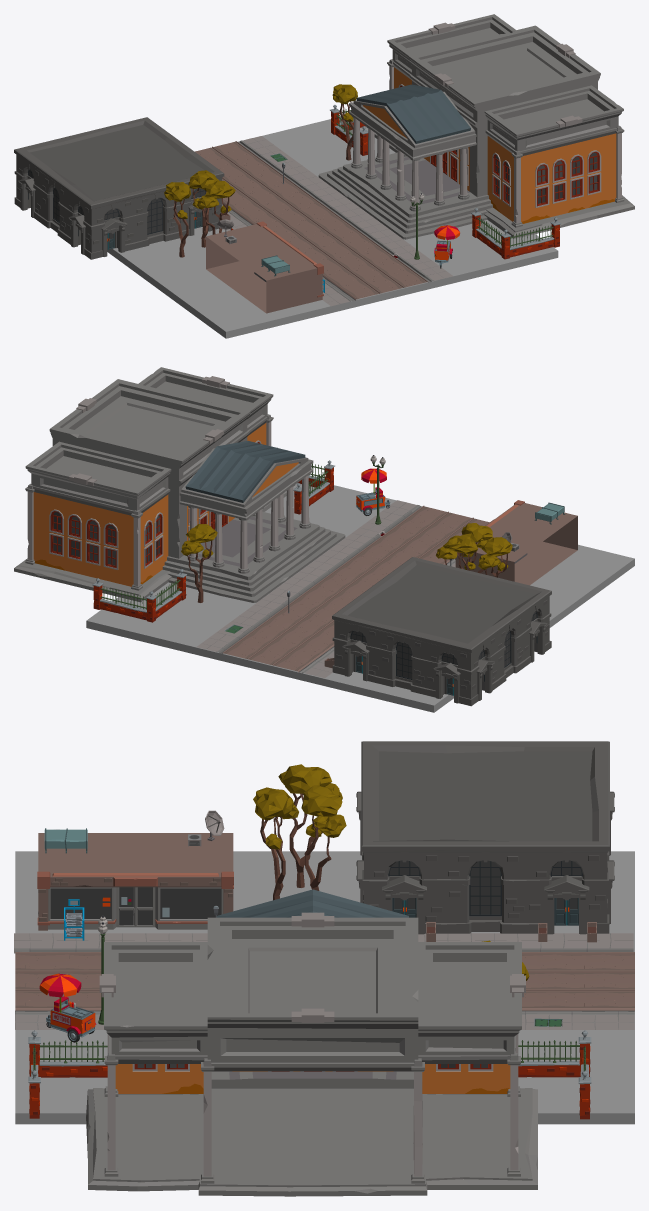
Rendered from City Area 5.fbx.
The picture shows the model from 3 angles, top to bottom: view 1: azimuth 30°, elevation 25°; view 2: azimuth 150°, elevation 25°; view 3: azimuth 270°, elevation 25°; orthographic projection. The views are drawn at different scales.
Parts seen in each view (by area): view 1: SM_Bld_CityHall_01.001, SM_Bld_OfficeOld_Large_Base_01.001, SM_Env_Sidewalk_Straight_01.221, Plane.005, SM_Prop_Vents_Wide_01.002, SM_Env_Tree_02.029, SM_Env_Tree_02.031, SM_Env_Tree_02.032, SM_Env_Fence_01.008, SM_Env_Tree_02.014, SM_Prop_HotdogStand_01, SM_Env_Fence_01.009; view 2: SM_Bld_CityHall_01.001, SM_Bld_OfficeOld_Large_Base_01.001, SM_Env_Sidewalk_Straight_01.221, Plane.005, SM_Prop_Vents_Wide_01.002, SM_Env_Tree_02.032, SM_Env_Fence_01.002, SM_Prop_HotdogStand_01, SM_Env_Tree_02.031, SM_Env_Tree_02.014, SM_Env_Tree_02.029, SM_Env_Fence_01.001; view 3: SM_Bld_CityHall_01.001, SM_Bld_OfficeOld_Large_Base_01.001, Plane.005, SM_Env_Sidewalk_Straight_01.221, SM_Prop_Vents_Wide_01.002, SM_Env_Tree_02.014, SM_Prop_HotdogStand_01, SM_Env_Tree_02.031, SM_Env_Tree_02.029, SM_Env_Fence_01.009, SM_Env_Fence_01.001.
Part boxes in pixels (x1,y1,x2,y2): SM_Bld_CityHall_01.001: [318, 14, 634, 239]; SM_Bld_OfficeOld_Large_Base_01.001: [14, 117, 224, 259]; SM_Env_Sidewalk_Straight_01.221: [195, 136, 452, 306]; Plane.005: [107, 117, 558, 338]; SM_Prop_Vents_Wide_01.002: [206, 221, 324, 313]; SM_Env_Tree_02.029: [197, 180, 235, 234]; SM_Env_Tree_02.031: [164, 182, 190, 257]; SM_Env_Tree_02.032: [332, 84, 357, 160]; SM_Env_Fence_01.008: [510, 226, 554, 257]; SM_Env_Tree_02.014: [188, 170, 218, 247]; SM_Prop_HotdogStand_01: [434, 225, 459, 268]; SM_Env_Fence_01.009: [476, 217, 501, 255]; SM_Bld_CityHall_01.001: [14, 367, 345, 602]; SM_Bld_OfficeOld_Large_Base_01.001: [332, 557, 551, 706]; SM_Env_Sidewalk_Straight_01.221: [196, 455, 489, 678]; Plane.005: [86, 483, 634, 712]; SM_Prop_Vents_Wide_01.002: [455, 500, 577, 585]; SM_Env_Tree_02.032: [181, 524, 217, 602]; SM_Env_Fence_01.002: [99, 586, 147, 620]; SM_Prop_HotdogStand_01: [356, 468, 390, 515]; SM_Env_Tree_02.031: [478, 537, 512, 577]; SM_Env_Tree_02.014: [436, 534, 477, 570]; SM_Env_Tree_02.029: [461, 523, 493, 573]; SM_Env_Fence_01.001: [155, 579, 182, 618]; SM_Bld_CityHall_01.001: [86, 889, 537, 1196]; SM_Bld_OfficeOld_Large_Base_01.001: [356, 741, 614, 934]; Plane.005: [15, 851, 634, 1124]; SM_Env_Sidewalk_Straight_01.221: [14, 915, 634, 1029]; SM_Prop_Vents_Wide_01.002: [37, 828, 233, 940]; SM_Env_Tree_02.014: [301, 785, 346, 890]; SM_Prop_HotdogStand_01: [39, 973, 96, 1042]; SM_Env_Tree_02.031: [278, 764, 342, 887]; SM_Env_Tree_02.029: [253, 787, 293, 900]; SM_Env_Fence_01.009: [39, 1040, 107, 1077]; SM_Env_Fence_01.001: [518, 1040, 579, 1077].
Size of the model in its own units: 14156 by 3400 by 10023.
